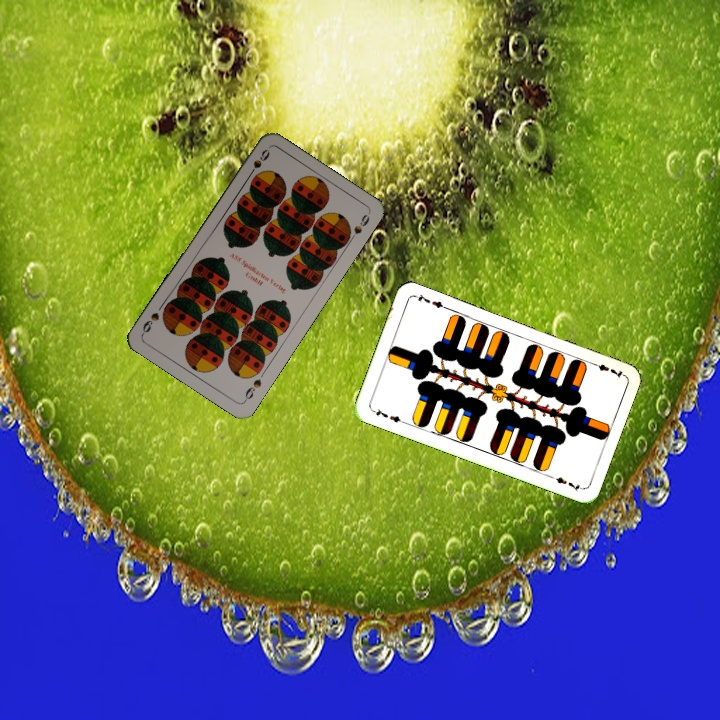E7: (587, 358, 626, 381), (368, 404, 407, 426)
S9: (244, 145, 272, 181), (240, 375, 264, 404)
